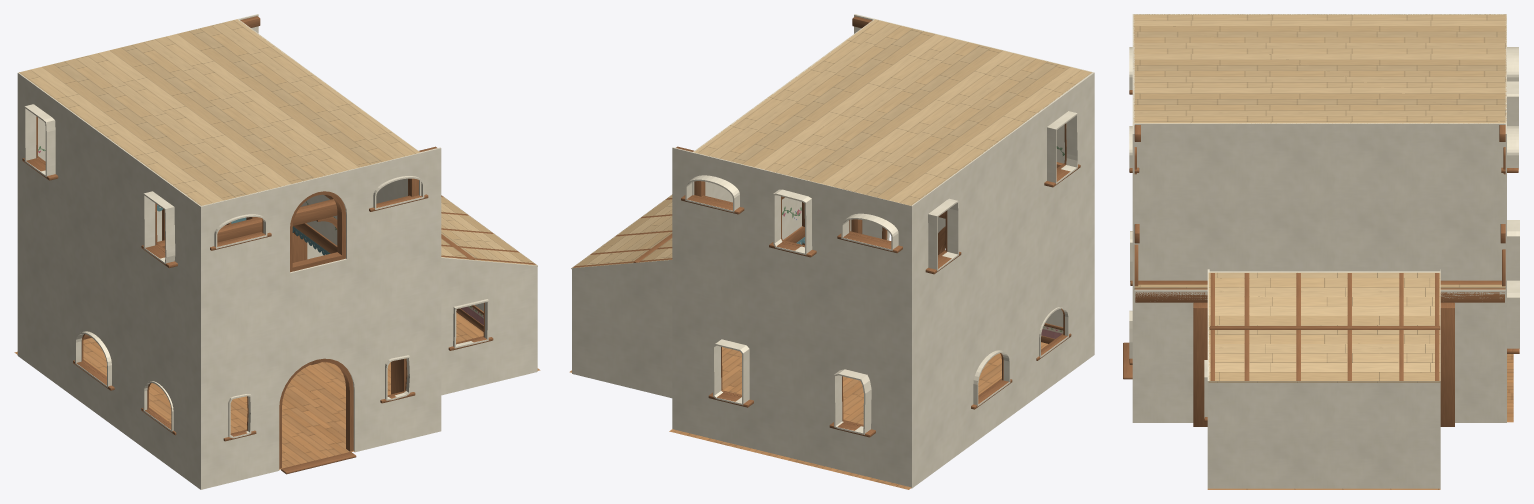
Rendered from house_h_lining.glb.
3 views of the same model, side by side, from view 1: azimuth 30°, elevation 25°; view 2: azimuth 150°, elevation 25°; view 3: azimuth 270°, elevation 25° (orthographic). The views are drawn at different scales.
Parts seen in each view (by area): view 1: Architecture_Walls, Architecture_Ceiling, Architecture_Floor, Architecture_Timber, Architecture_TimberCurves; view 2: Architecture_Walls, Architecture_Ceiling, Architecture_Timber, Architecture_Floor, Architecture_TimberCurves; view 3: Architecture_Walls, Architecture_Ceiling, Architecture_Timber, Architecture_TimberCurves, Architecture_Floor.
Part boxes in pixels (<box>): Architecture_Walls: <box>17,14,537,489</box>; Architecture_Ceiling: <box>19,19,537,266</box>; Architecture_Floor: <box>14,312,540,469</box>; Architecture_Timber: <box>22,16,493,474</box>; Architecture_TimberCurves: <box>36,116,535,468</box>; Architecture_Walls: <box>572,14,1094,488</box>; Architecture_Ceiling: <box>571,19,1091,268</box>; Architecture_Timber: <box>633,16,1080,437</box>; Architecture_Floor: <box>569,342,1048,489</box>; Architecture_TimberCurves: <box>573,123,1066,426</box>; Architecture_Walls: <box>1129,14,1519,489</box>; Architecture_Ceiling: <box>1133,14,1506,382</box>; Architecture_Timber: <box>1123,90,1519,426</box>; Architecture_TimberCurves: <box>1134,147,1505,380</box>; Architecture_Floor: <box>1207,354,1513,489</box>.
Size of what is drawn, in the model's own units: 8.55 by 6.02 by 7.46.
6 materials, 6 textured.
